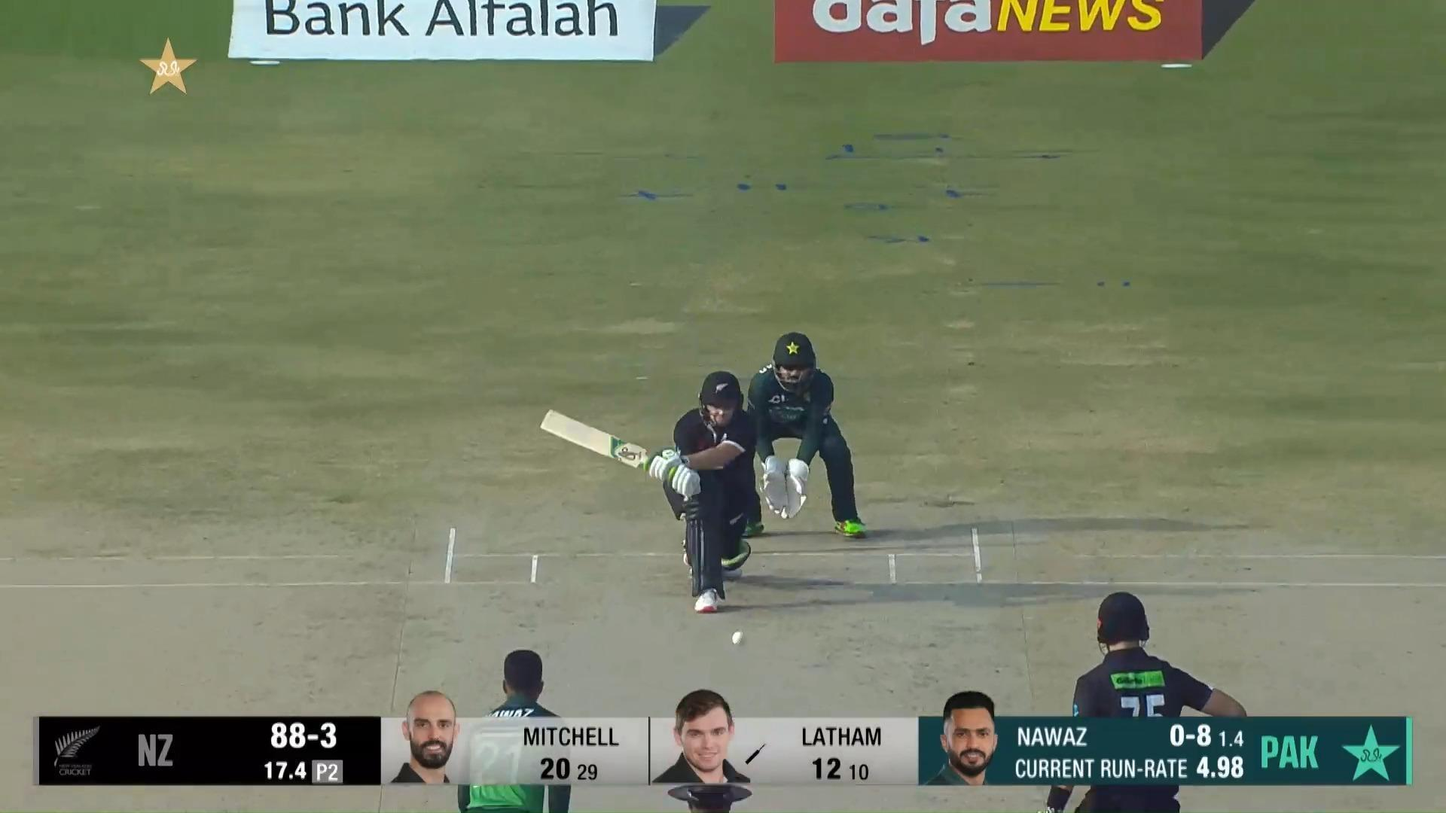BM 1: (539, 369, 757, 613)
BO: (455, 648, 572, 813)
